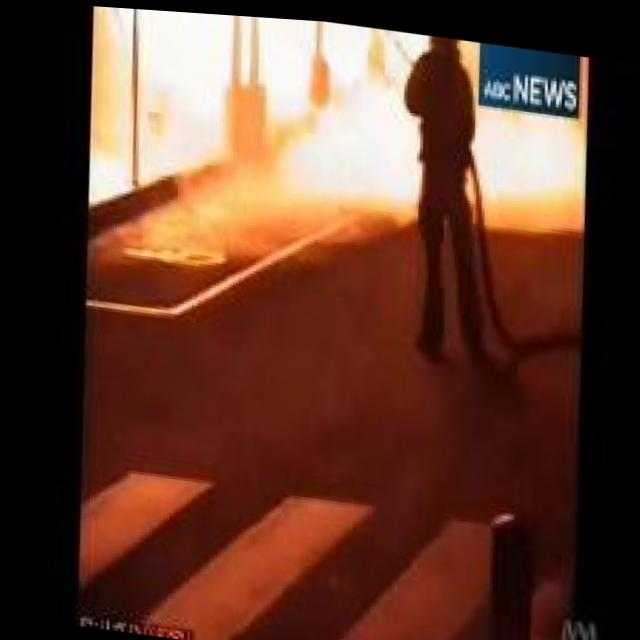fire: (79, 4, 431, 236), (466, 97, 596, 243)
